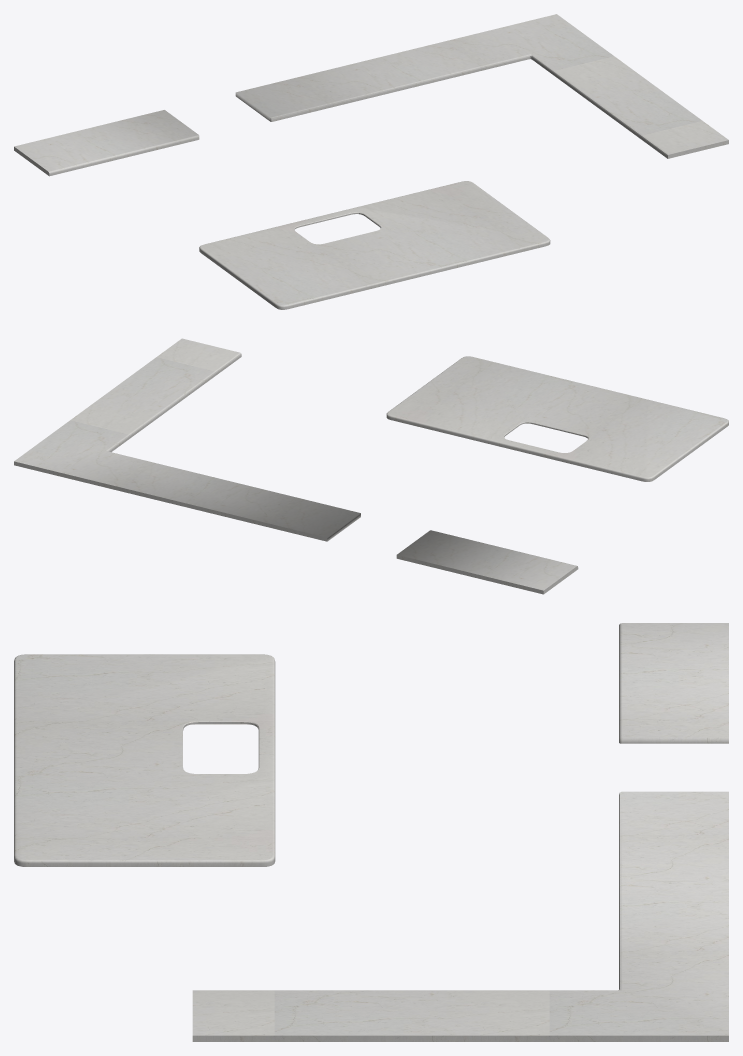
Rendered from 1989_kitchen_Countertops_QuartzCalacattaKarmelo.gltf.
3 renders of one model, top to bottom at view 1: azimuth 30°, elevation 25°; view 2: azimuth 150°, elevation 25°; view 3: azimuth 270°, elevation 25°, orthographic. The views are drawn at different scales.
Parts seen in each view (by area): view 1: Countertop_quartz_calacatta_karmelo.001; view 2: Countertop_quartz_calacatta_karmelo.001; view 3: Countertop_quartz_calacatta_karmelo.001.
Boxes of the visible parts, <box> form: Countertop_quartz_calacatta_karmelo.001: <box>14,14,728,309</box>; Countertop_quartz_calacatta_karmelo.001: <box>14,338,728,594</box>; Countertop_quartz_calacatta_karmelo.001: <box>14,623,728,1041</box>.
Bounding box in the file's own units: 7.1 × 0.07 × 5.2.
Materials: 1 (1 with a texture image).
